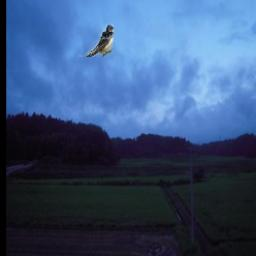Swallow: (78, 24, 114, 57)
